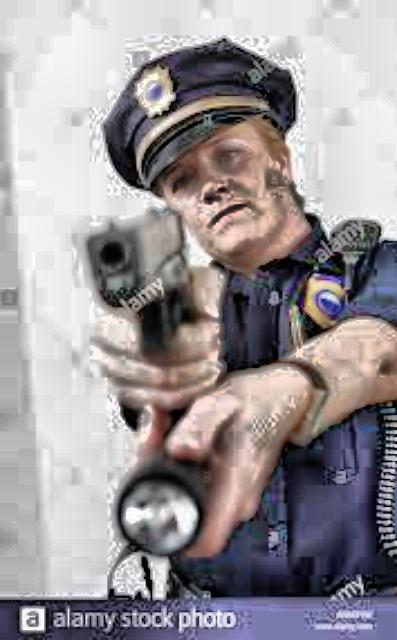pistol: (74, 196, 202, 366)
